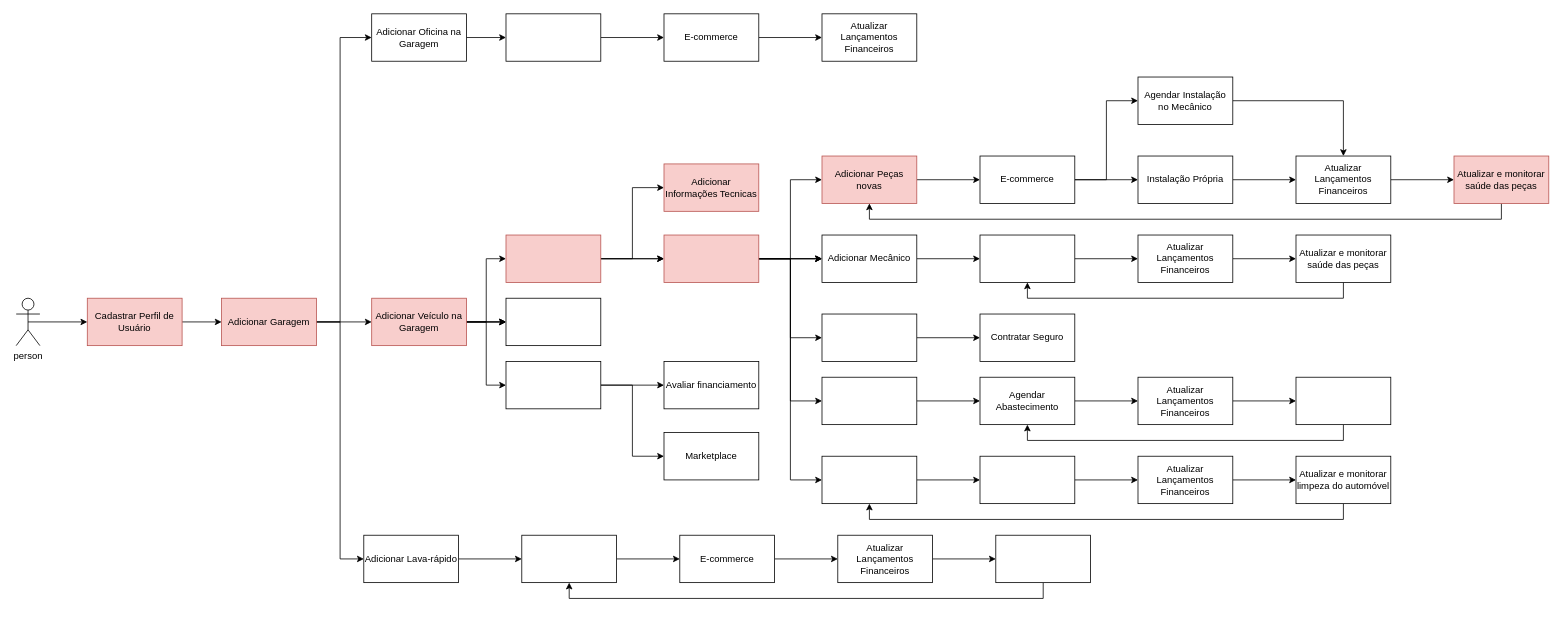
The diagram is 1563 pixels wide and 619 high, and some of its shapes have lost their labels. The shapes that lost their labels are listed below. From the top down, each one's box as (x1, y1, x2, y2) in pixels, then its label:
(505, 13, 601, 61): Adicionar Ferramentas
(505, 234, 601, 282): Adicionar Veículo Próprio
(663, 234, 759, 282): Adicionar Peças
(979, 234, 1075, 282): Agendar checkup com mecânico
(505, 297, 601, 346): Alugar um Veículo
(821, 313, 917, 361): Adicionar Seguradora
(505, 361, 601, 409): Comprar um Veículo
(821, 376, 917, 425): Adicionar Postos de Gasolina
(1295, 376, 1391, 425): Atualizar e monitorar consumo de combustível
(821, 455, 917, 504): Adicionar Lava Jato
(979, 455, 1075, 504): Agendar Lavagem do Automóvel
(521, 534, 617, 583): Adicionar Itens e Ferramentas de Limpeza
(995, 534, 1091, 583): Atualizar e monitorar limpeza do automóvel + itens consumidos
